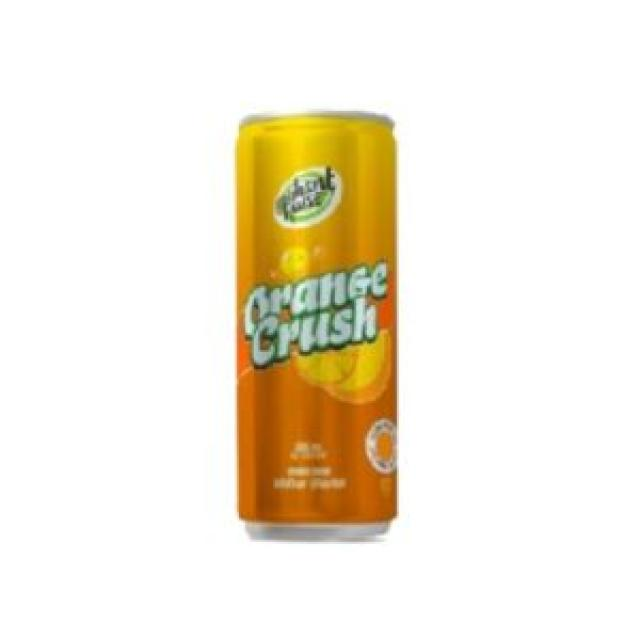Cans: (228, 105, 403, 544)
